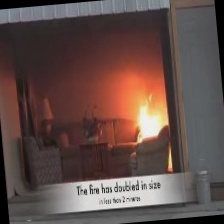fire: (122, 70, 171, 135)
